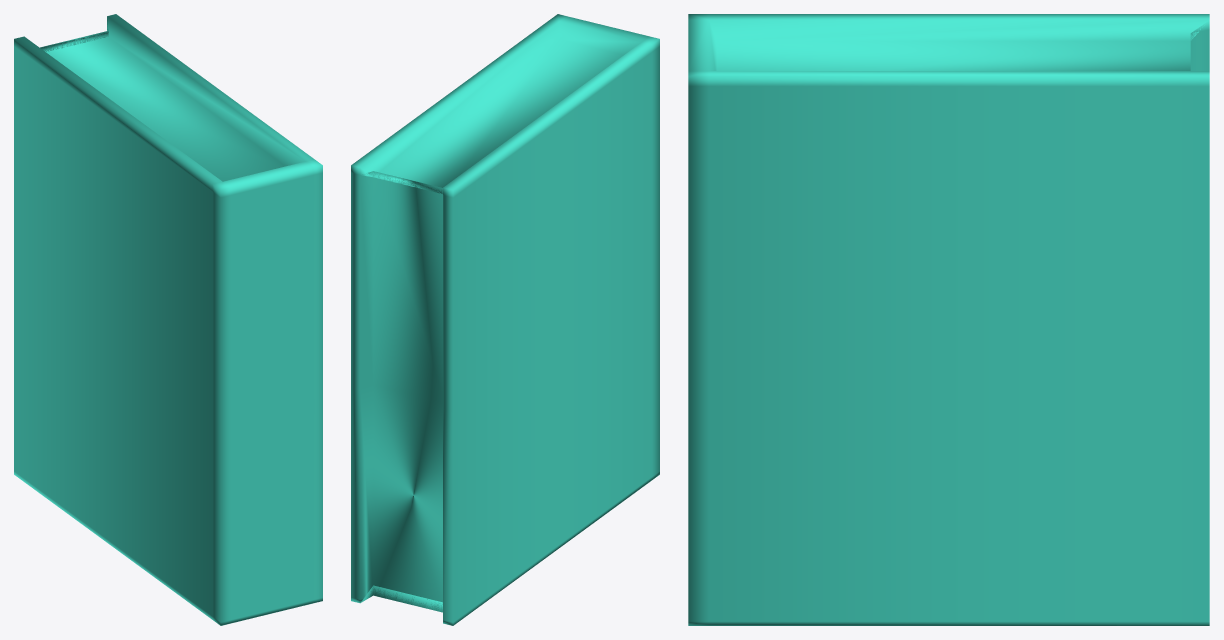
Rendered from K-Book_1.fbx.
3 views of the same model, side by side, from view 1: azimuth 30°, elevation 25°; view 2: azimuth 150°, elevation 25°; view 3: azimuth 270°, elevation 25° (orthographic). The views are drawn at different scales.
Visible parts, largest first — view 1: Book.001; view 2: Book.001; view 3: Book.001.
Part boxes in pixels (box(x1,y1,x2,y2)): Book.001: box(14, 14, 322, 625); Book.001: box(351, 14, 659, 625); Book.001: box(688, 14, 1209, 625).
Bounding box in the file's own units: 9.21 × 37.57 × 32.31.
